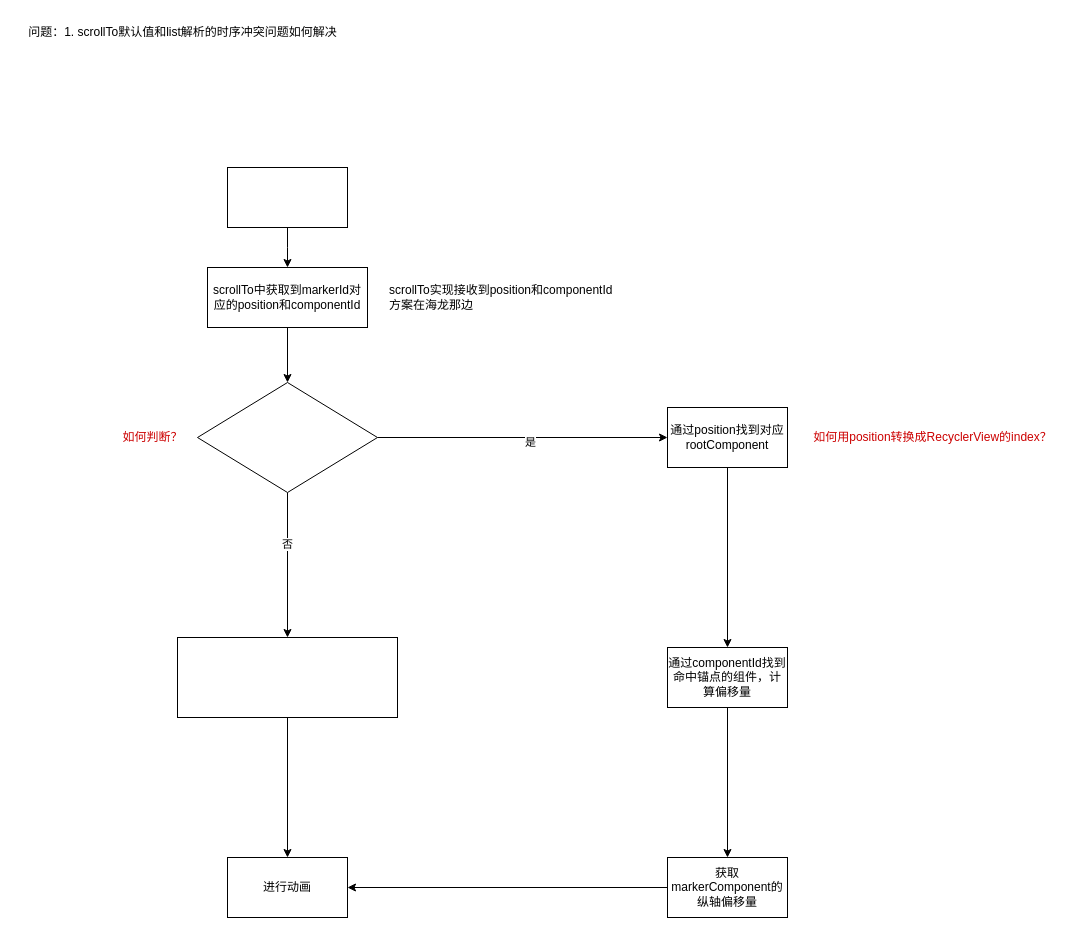
The diagram is 1079 pixels wide and 935 high, and some of its shapes have lost their labels. The box of each missing label's shape, as (x1, y1, x2, y2) in pixels:
list接收到markerId: (226, 166, 348, 228)
判断是否在当前视图中: (196, 382, 378, 492)
解析position对应的element，用ComponentId找到markerComponent 并获取偏移量: (176, 636, 398, 718)
